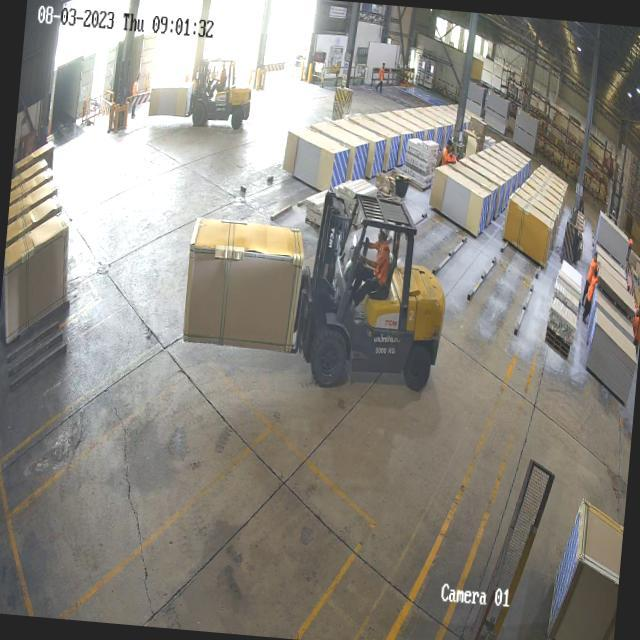driver: (357, 228, 395, 302), (212, 63, 228, 89)
forklift: (291, 179, 460, 402), (188, 49, 256, 137)
person: (583, 266, 598, 319), (377, 62, 385, 92), (444, 139, 452, 162), (132, 75, 139, 94)
